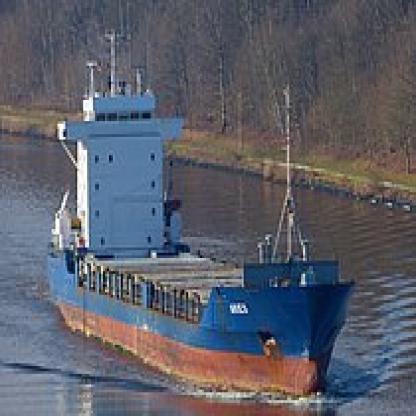Tanker: (10, 24, 368, 413)
